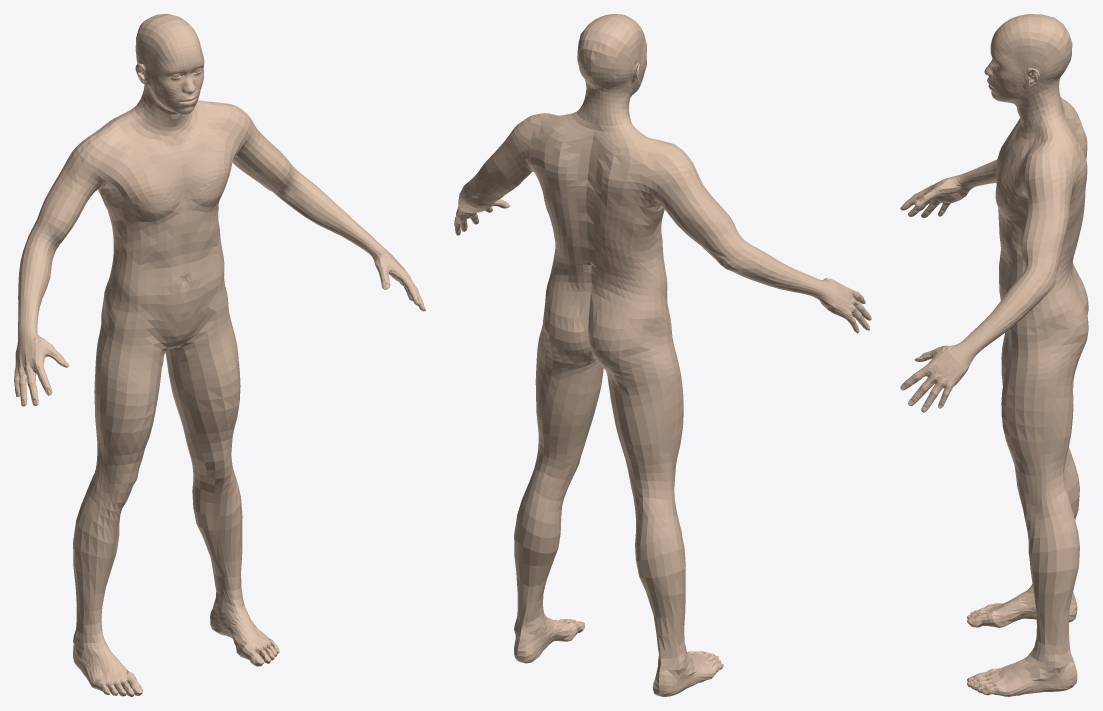
The model's file is male-young-average-high.glb.
The picture shows the model from 3 angles, left to right: view 1: azimuth 30°, elevation 25°; view 2: azimuth 150°, elevation 25°; view 3: azimuth 270°, elevation 25°; orthographic projection.
Visible parts, largest first — view 1: world; view 2: world; view 3: world.
Part boxes in pixels (x1,y1,x2,y2): world: (14,14,425,696); world: (454,14,871,696); world: (900,14,1088,696).
Bounding box in the file's own units: 1.24 × 1.89 × 0.505.
